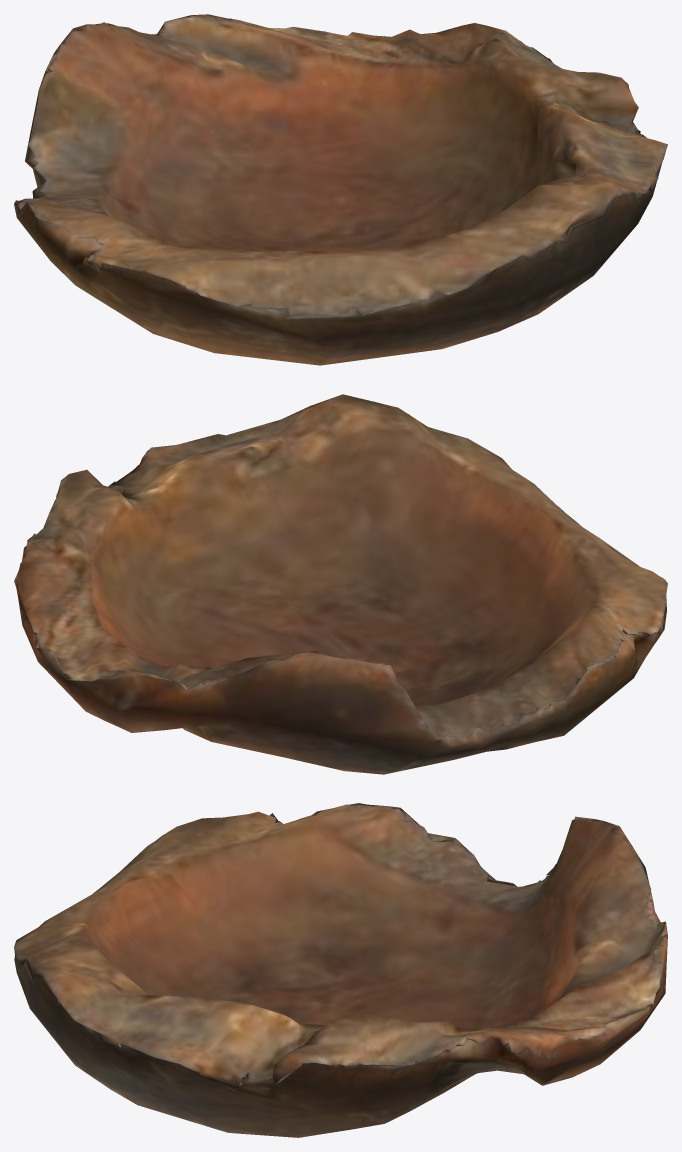
The model's file is wooden_bowl_01.glb.
3 views of the same model, one above another, from view 1: azimuth 30°, elevation 25°; view 2: azimuth 150°, elevation 25°; view 3: azimuth 270°, elevation 25° (orthographic). The views are drawn at different scales.
Visible parts, largest first — view 1: wooden_bowl_01; view 2: wooden_bowl_01; view 3: wooden_bowl_01.
Boxes of the visible parts, <box> form: wooden_bowl_01: <box>14,14,667,365</box>; wooden_bowl_01: <box>14,394,667,774</box>; wooden_bowl_01: <box>14,803,667,1137</box>.
Bounding box in the file's own units: 0.3138 × 0.0931 × 0.3092.
1 material, 1 textured.
